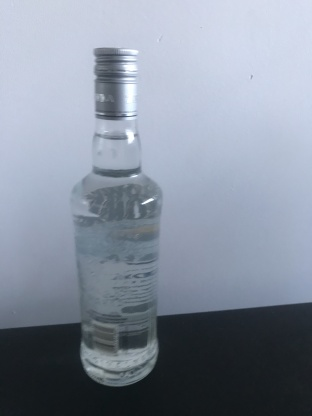nakretka: (91, 45, 140, 121)
